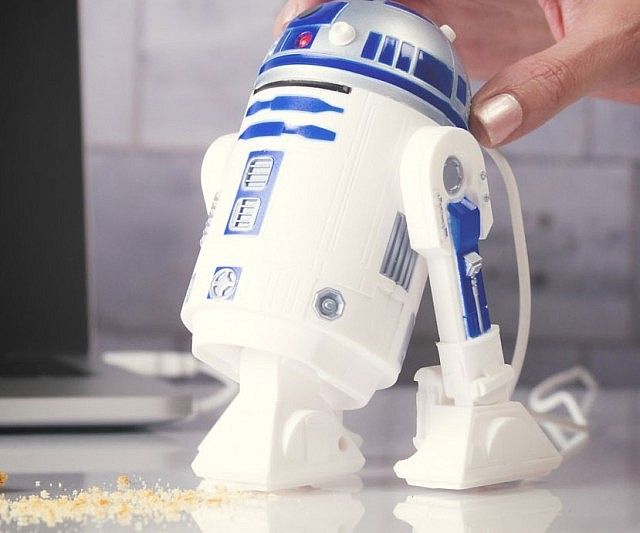r2d2: (179, 1, 562, 490)
